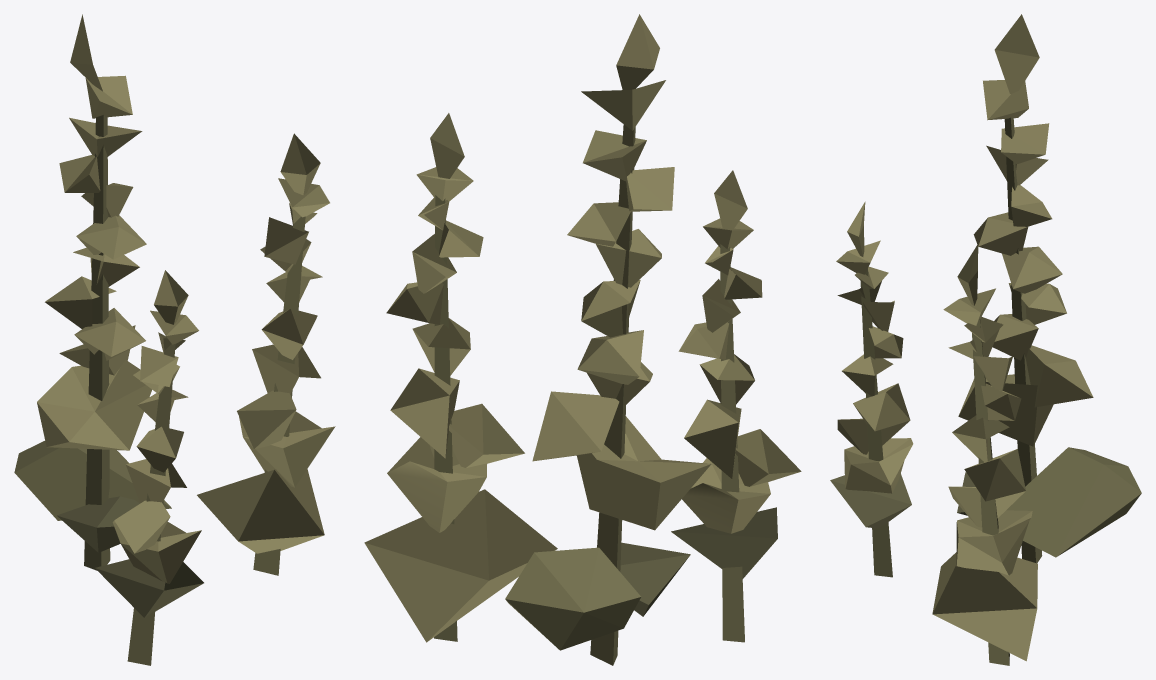
Rendered from SM_Env_Plant_Tall_01.fbx.
The picture shows the model from 3 angles, left to right: view 1: azimuth 30°, elevation 25°; view 2: azimuth 150°, elevation 25°; view 3: azimuth 270°, elevation 25°; orthographic projection. The views are drawn at different scales.
Parts seen in each view (by area): view 1: SM_Env_Plant_Tall_01; view 2: SM_Env_Plant_Tall_01; view 3: SM_Env_Plant_Tall_01.
Boxes of the visible parts, bbox=[...] form: SM_Env_Plant_Tall_01: bbox=[14, 14, 335, 665]; SM_Env_Plant_Tall_01: bbox=[364, 14, 801, 665]; SM_Env_Plant_Tall_01: bbox=[830, 14, 1141, 665].
Bounding box in the file's own units: 83.94 × 167 × 83.29.
